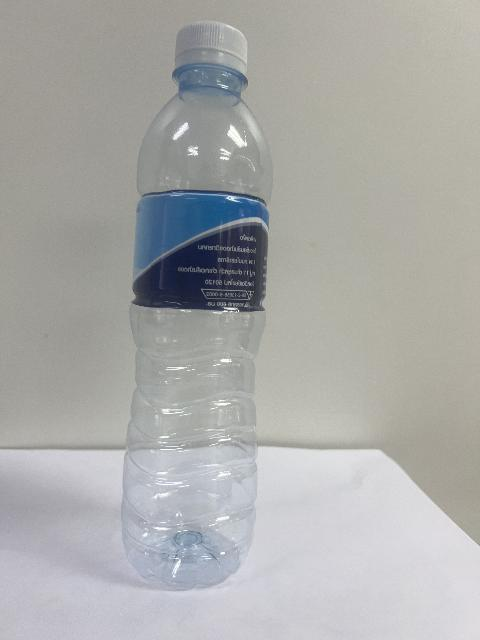bottle: (121, 22, 271, 589)
